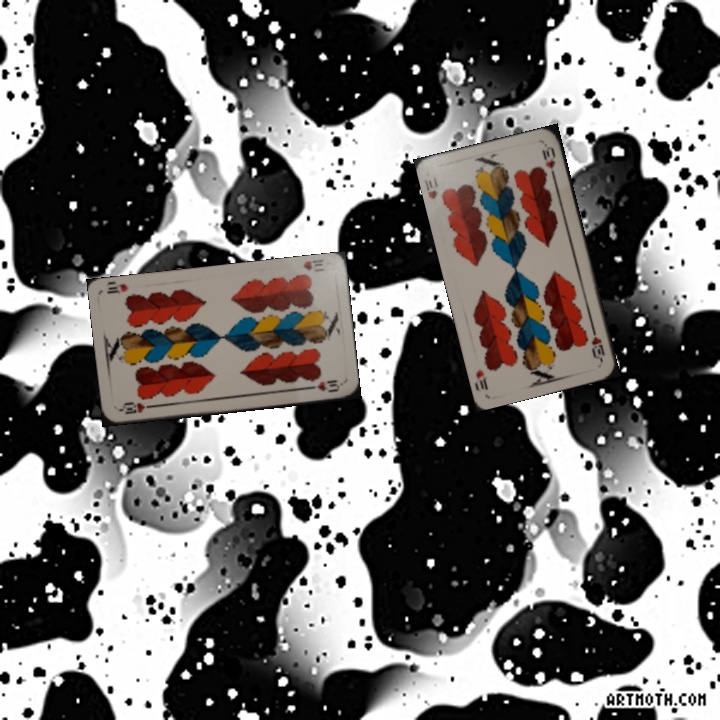H10: (587, 324, 608, 364), (116, 399, 156, 417), (421, 173, 441, 202), (299, 256, 327, 274)
